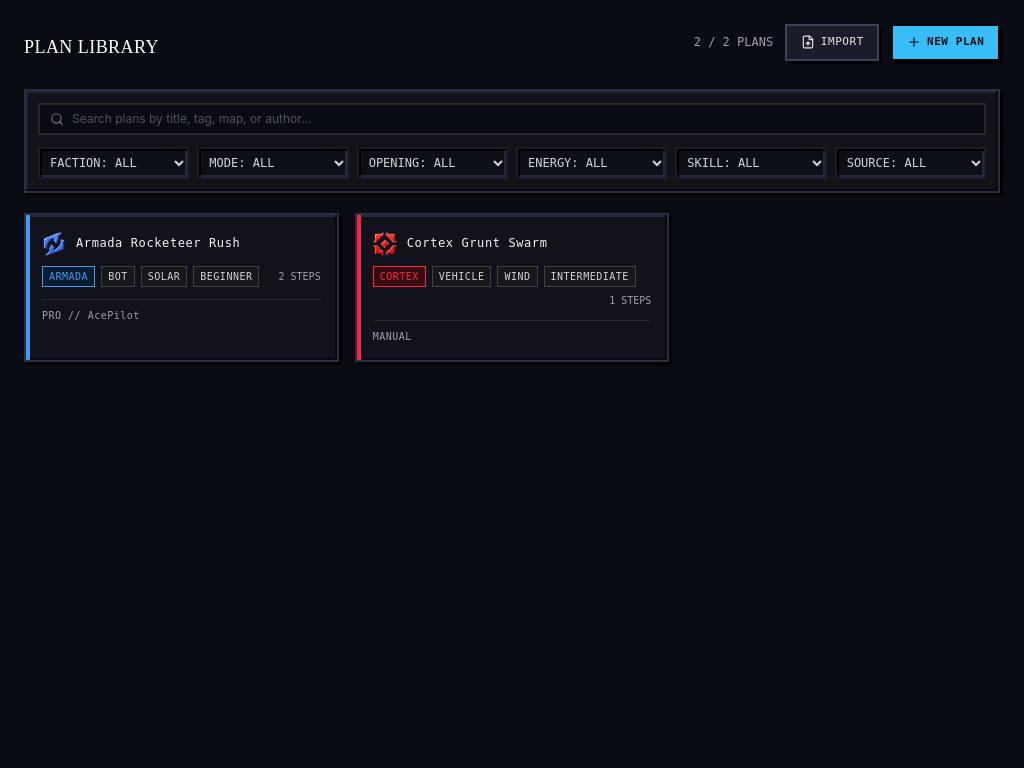
Test: LibraryView & PlanDetailView › opens PlanDetailView on card click and renders timeline rows
Click the element with test id "plan-card-armada-test-plan" at [181, 287], box [24,212,339,362]
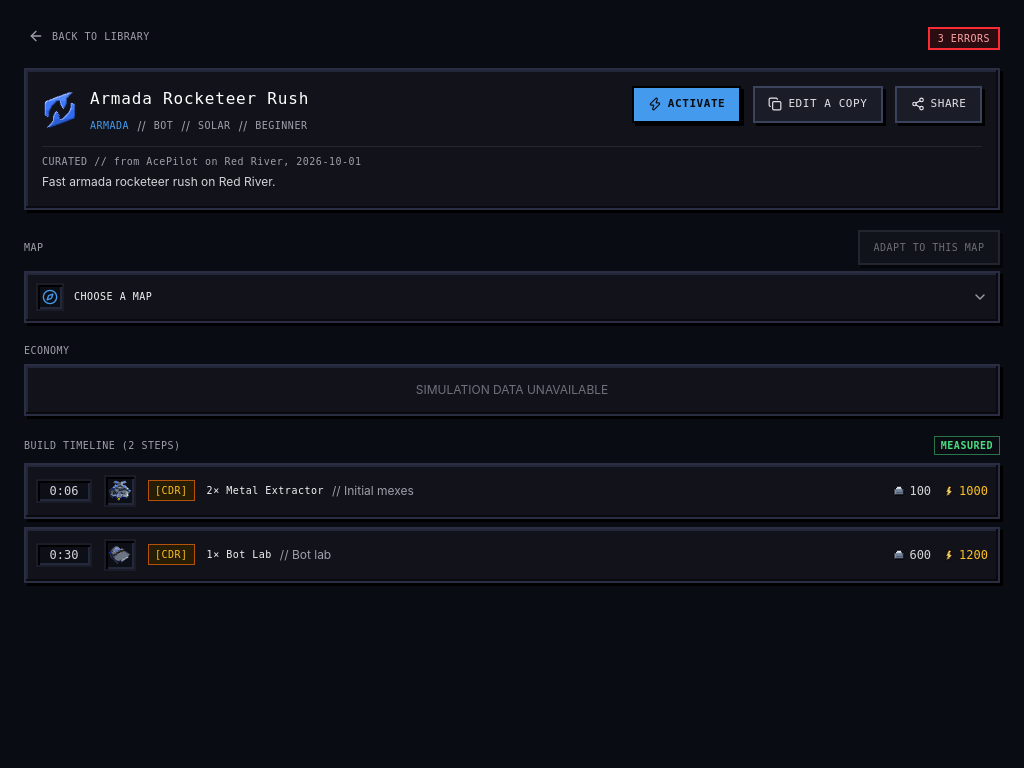
Check: the element with test id "view-plan-detail" is shown
Check: the text "BUILD TIMELINE" is shown, box [24,440,128,451]
Check: the element with test id "timeline-step-0" shows "[CDR]", box [155,485,188,496]
Click the button with test id "btn-back-to-library" at [89, 36], box [24,24,154,48]
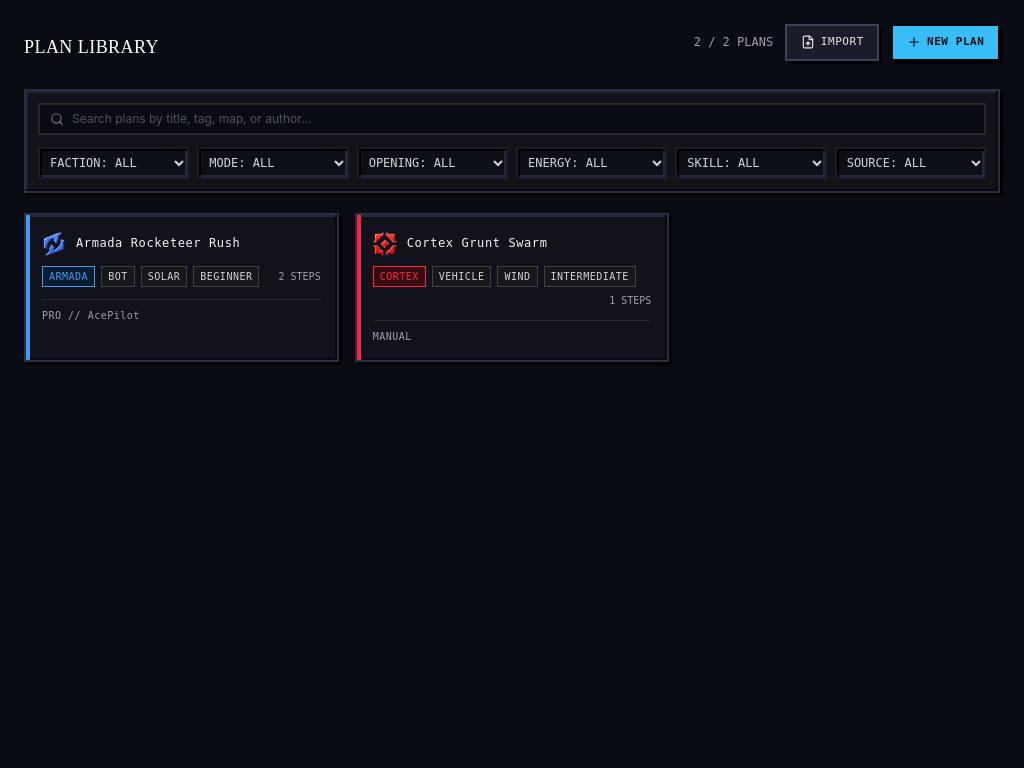
Check: the element with test id "view-library" is shown, box [0,0,1023,386]
